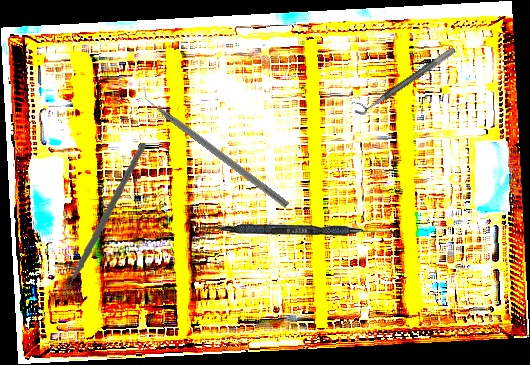Chopper: (136, 82, 296, 209), (37, 142, 157, 301)
Fixation Ring: (349, 38, 457, 119)
Spatula Surgical: (196, 224, 399, 236)
